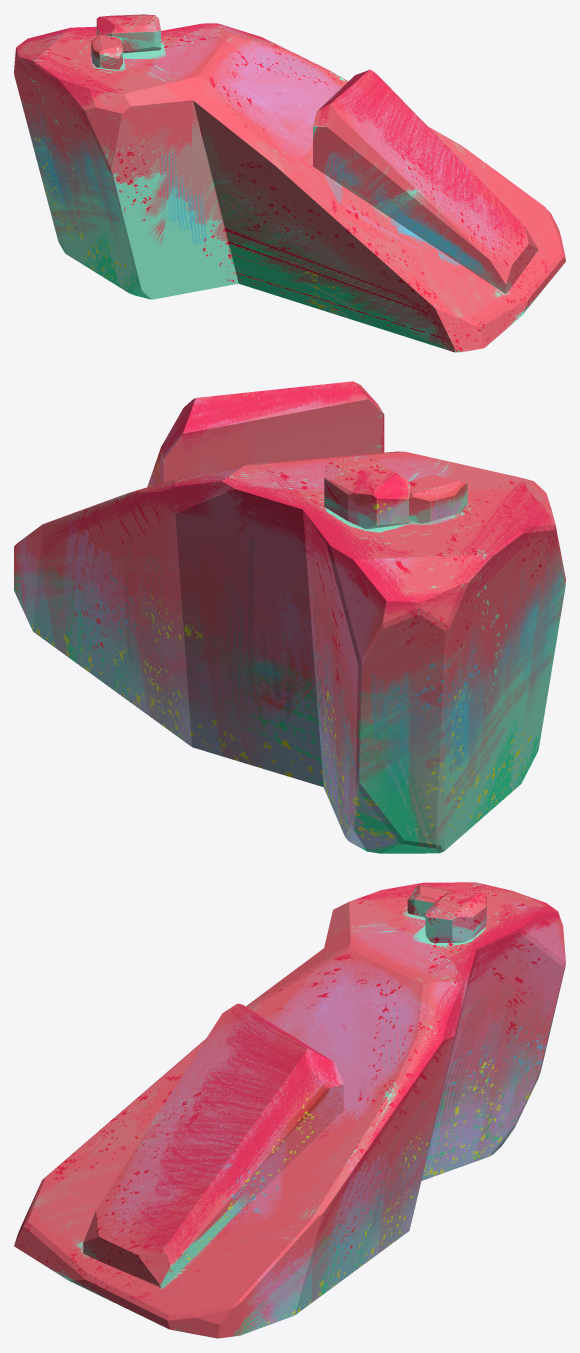
File: Rock.fbx
The picture shows the model from 3 angles, top to bottom: view 1: azimuth 30°, elevation 25°; view 2: azimuth 150°, elevation 25°; view 3: azimuth 270°, elevation 25°; orthographic projection. The views are drawn at different scales.
Visible parts, largest first — view 1: stone45; view 2: stone45; view 3: stone45.
Part boxes in pixels (left/top/right/bottom): stone45: left=14, top=14, right=565, bottom=352; stone45: left=14, top=381, right=565, bottom=853; stone45: left=14, top=882, right=565, bottom=1338.
Bounding box in the file's own units: 745 × 385 × 754.
Materials: 1 (1 with a texture image).
